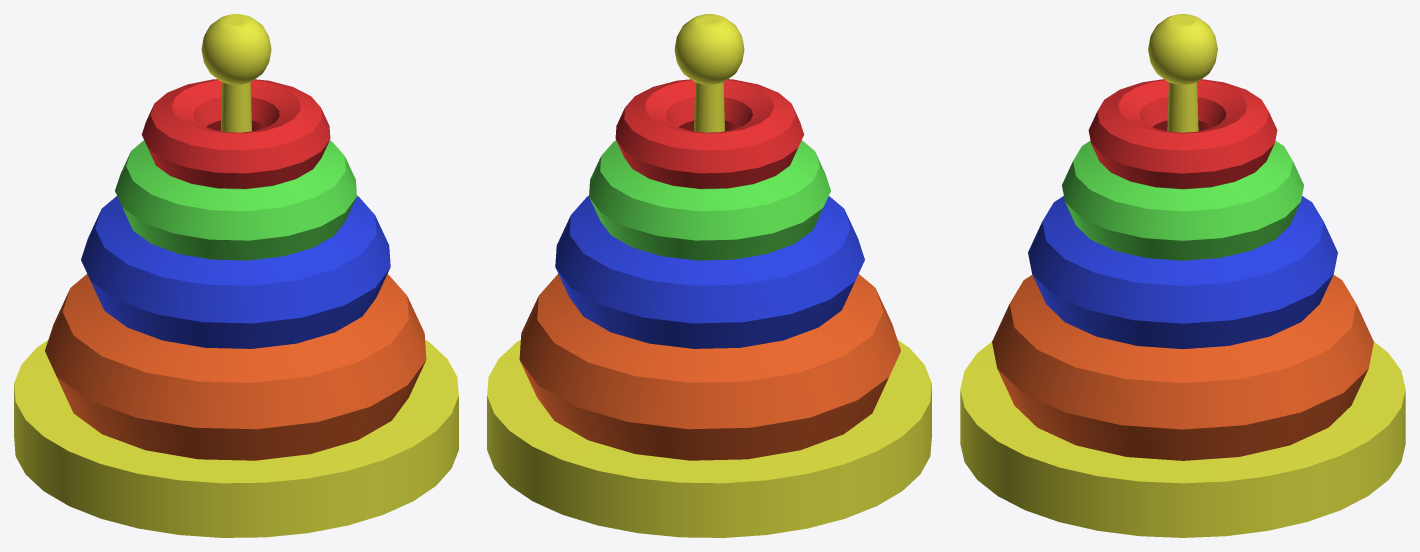
The model's file is BabyToy.fbx.
The picture shows the model from 3 angles, left to right: view 1: azimuth 30°, elevation 25°; view 2: azimuth 150°, elevation 25°; view 3: azimuth 270°, elevation 25°; orthographic projection.
Visible parts, largest first — view 1: RingToss; view 2: RingToss; view 3: RingToss.
Boxes of the visible parts, bbox=[...] form: RingToss: bbox=[14, 14, 458, 537]; RingToss: bbox=[487, 14, 931, 537]; RingToss: bbox=[960, 14, 1405, 537].
Size of the model in its own units: 33.85 by 35.54 by 33.85.
